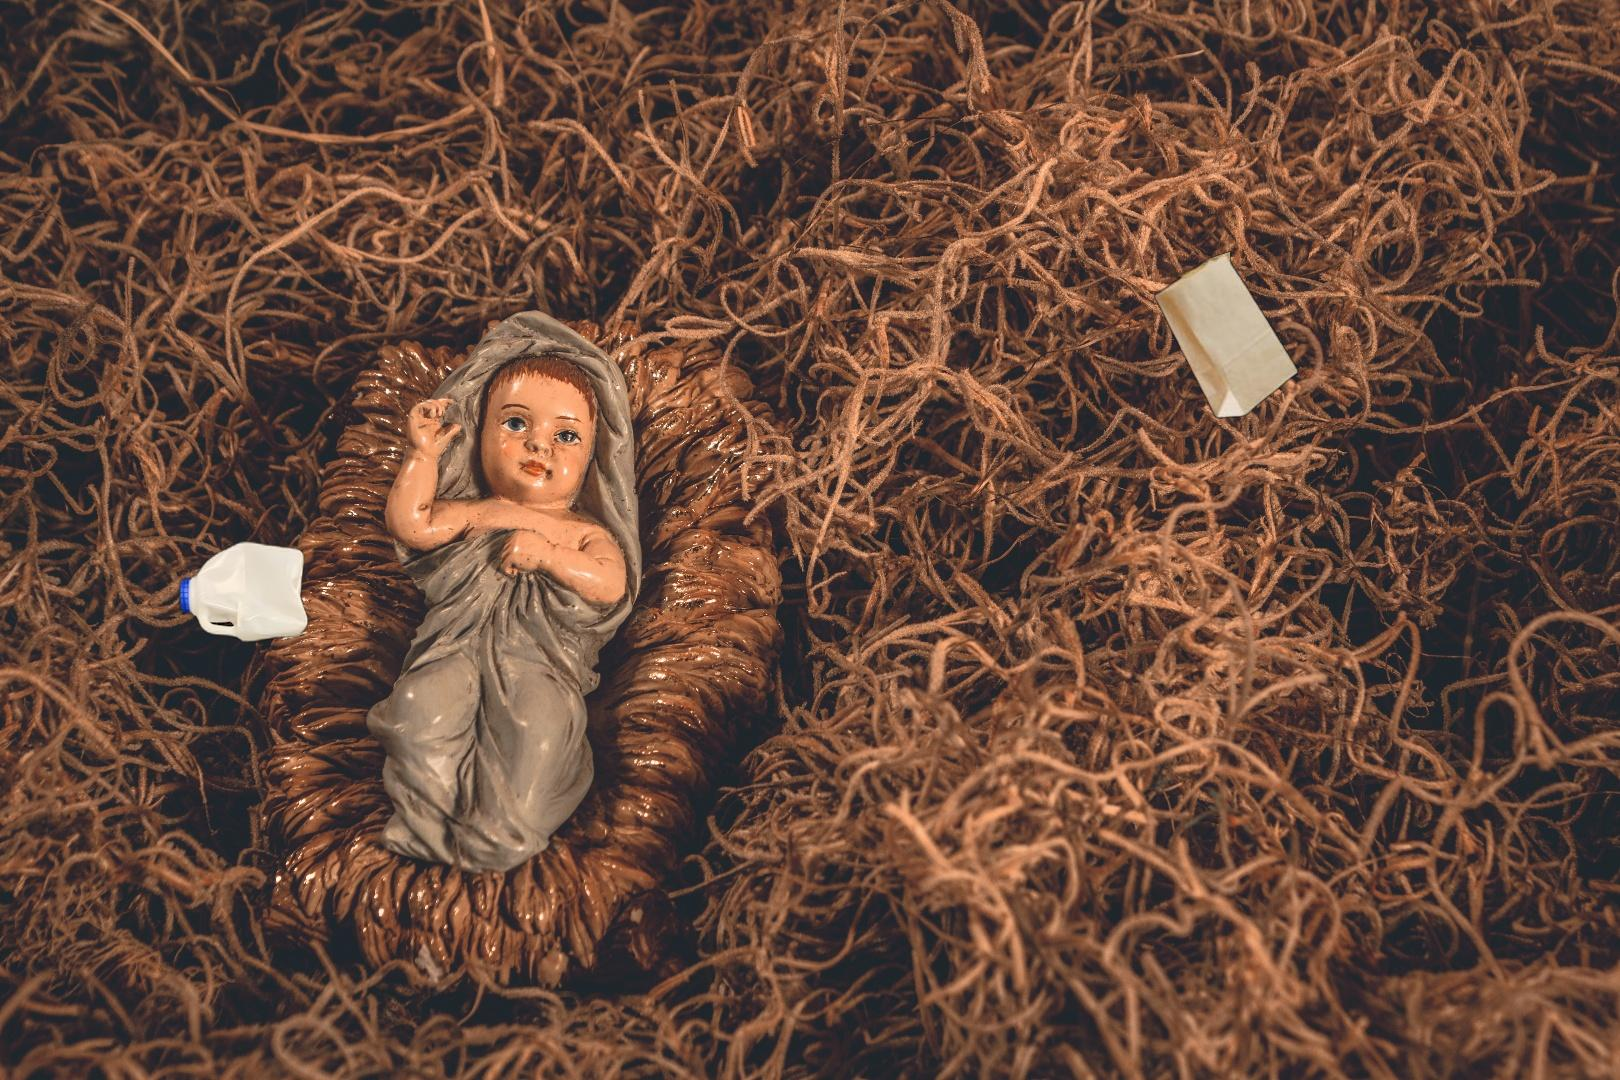paper-bag: (1032, 250, 1302, 422)
plastic-bottles: (174, 536, 313, 648)
